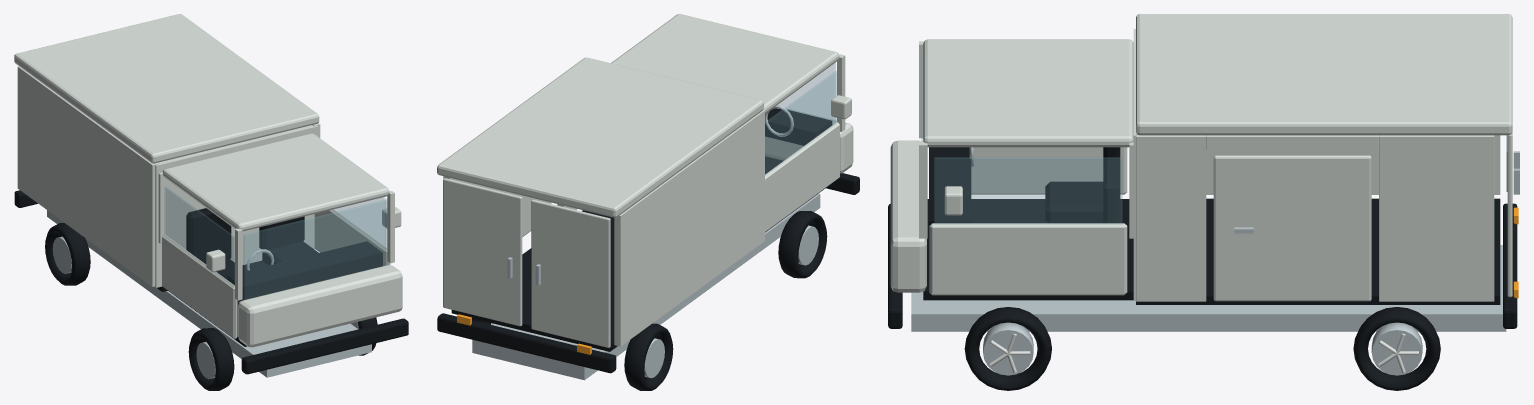
Rendered from van_hd.glb.
3 renders of one model, left to right at view 1: azimuth 30°, elevation 25°; view 2: azimuth 150°, elevation 25°; view 3: azimuth 270°, elevation 25°, orthographic. The views are drawn at different scales.
Visible parts, largest first — view 1: body, wheel_FL, wheel_RL; view 2: body, wheel_FL, wheel_RL; view 3: body, wheel_RR, wheel_FR.
Part boxes in pixels (<box>): body: <box>14,14,408,377</box>; wheel_FL: <box>188,328,234,390</box>; wheel_RL: <box>45,223,90,285</box>; body: <box>437,14,859,380</box>; wheel_FL: <box>778,211,827,278</box>; wheel_RL: <box>624,323,673,390</box>; body: <box>888,14,1519,331</box>; wheel_RR: <box>1353,307,1440,390</box>; wheel_FR: <box>964,307,1051,390</box>.
Bounding box in the file's own units: 2.3 × 2.34 × 4.9.
